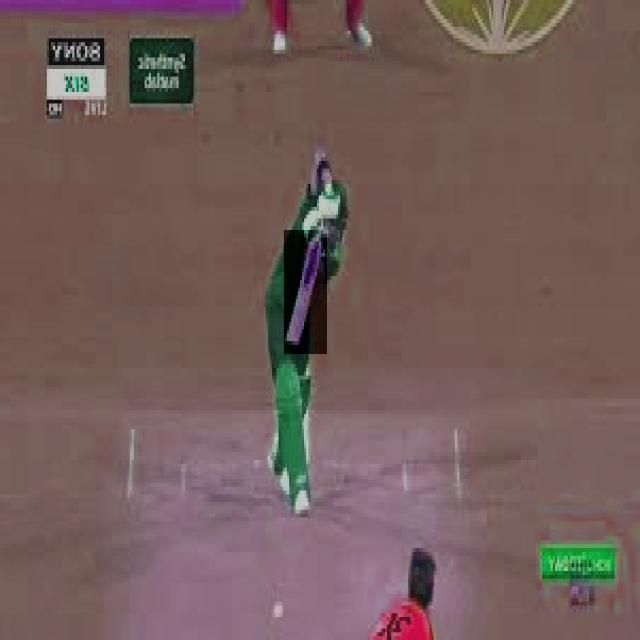bat: (279, 235, 327, 347)
